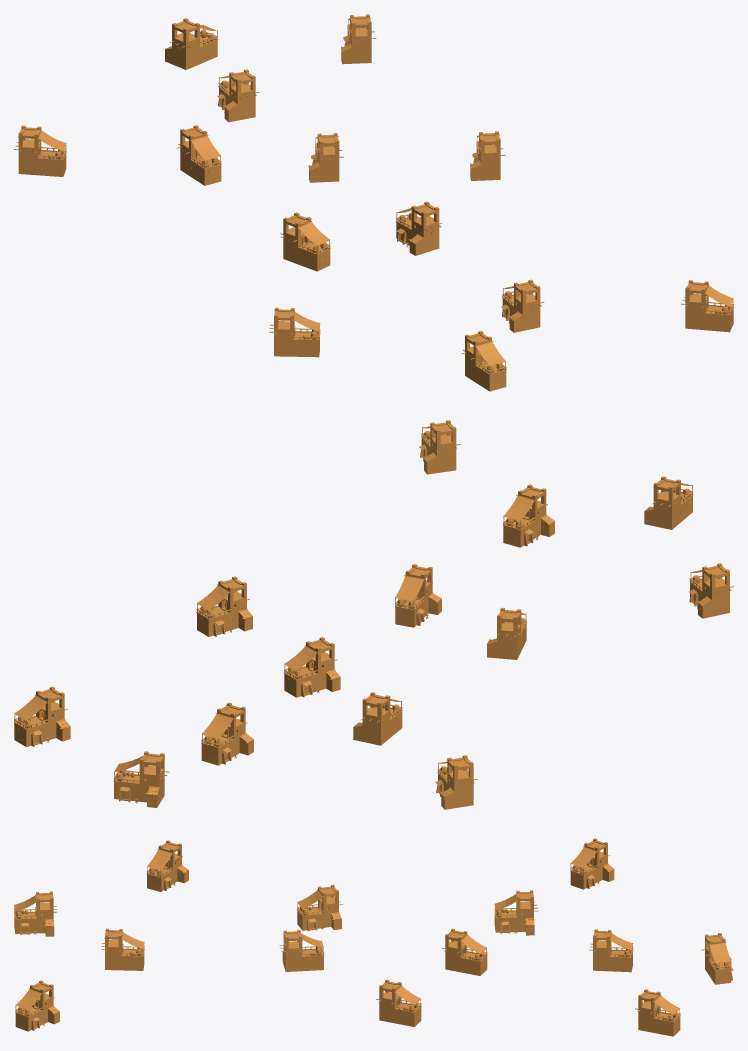
File: BGF2Side.fbx
3 renders of one model, top to bottom at view 1: azimuth 30°, elevation 25°; view 2: azimuth 150°, elevation 25°; view 3: azimuth 270°, elevation 25°, orthographic. The views are drawn at different scales.
Parts seen in each view (by area): view 1: House_Fire; view 2: House_Fire; view 3: House_Fire.
Boxes of the visible parts, left/top/right/bottom form: House_Fire: left=14, top=14, right=733, bottom=391; House_Fire: left=14, top=420, right=733, bottom=809; House_Fire: left=14, top=838, right=733, bottom=1036.
Size of the model in its own units: 6990 by 678 by 12865.
